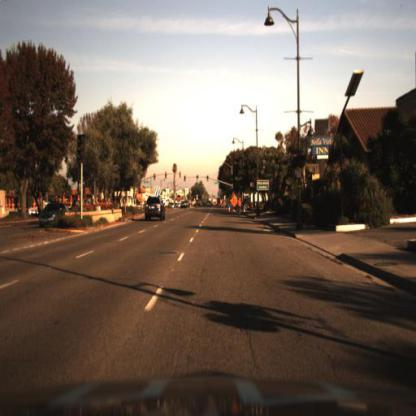biker: (236, 198, 245, 219)
car: (135, 189, 169, 223), (39, 202, 69, 231)
trafficLight-YellowLeft: (78, 133, 86, 164)
